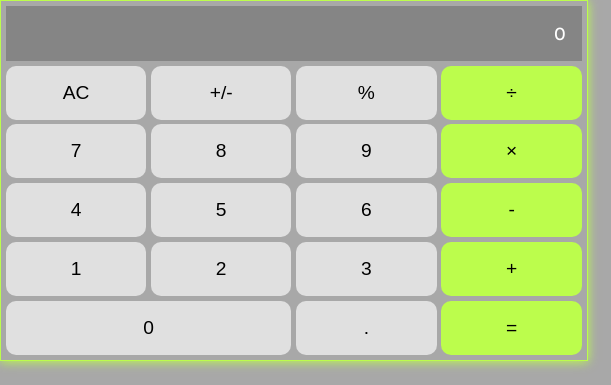
Test: Tests for Calculator component › Simulate user pressing the plus operator to display '+'
This screenshot has width=611, height=385.
Click the button "+" at (512, 269), box left=441, top=242, right=582, bottom=296
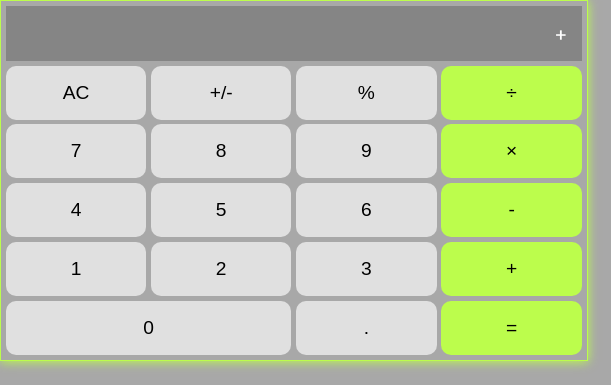
expect the text with class "display" reads "+": met, box left=556, top=22, right=566, bottom=45
